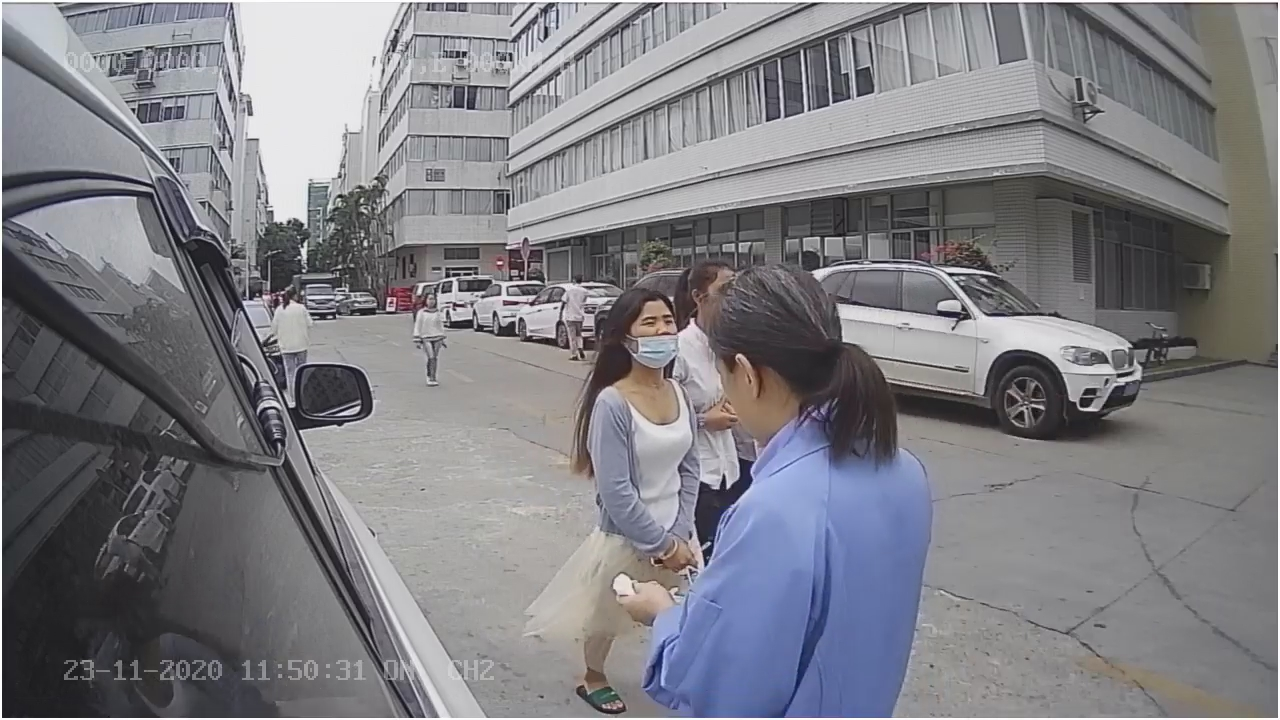person: (571, 286, 700, 515)
